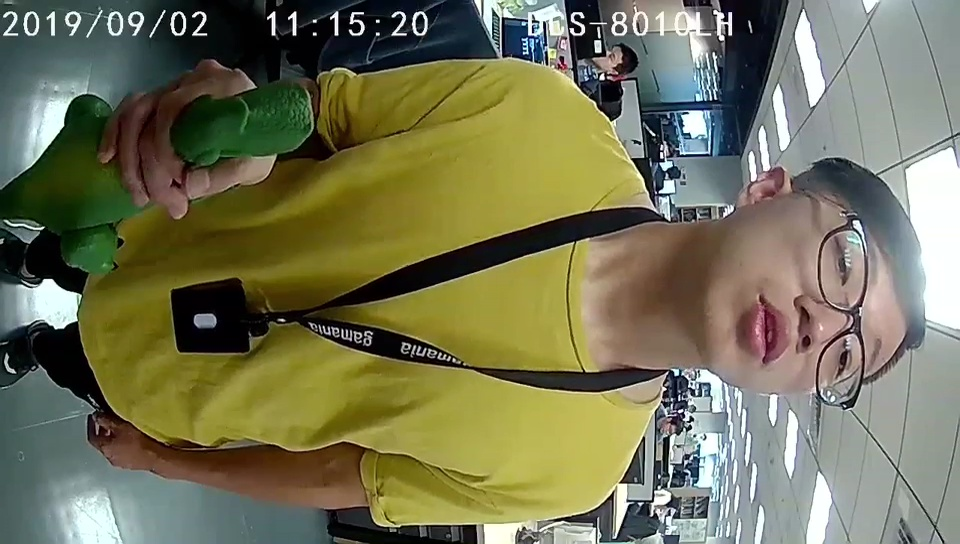rex: (57, 80, 311, 274)
